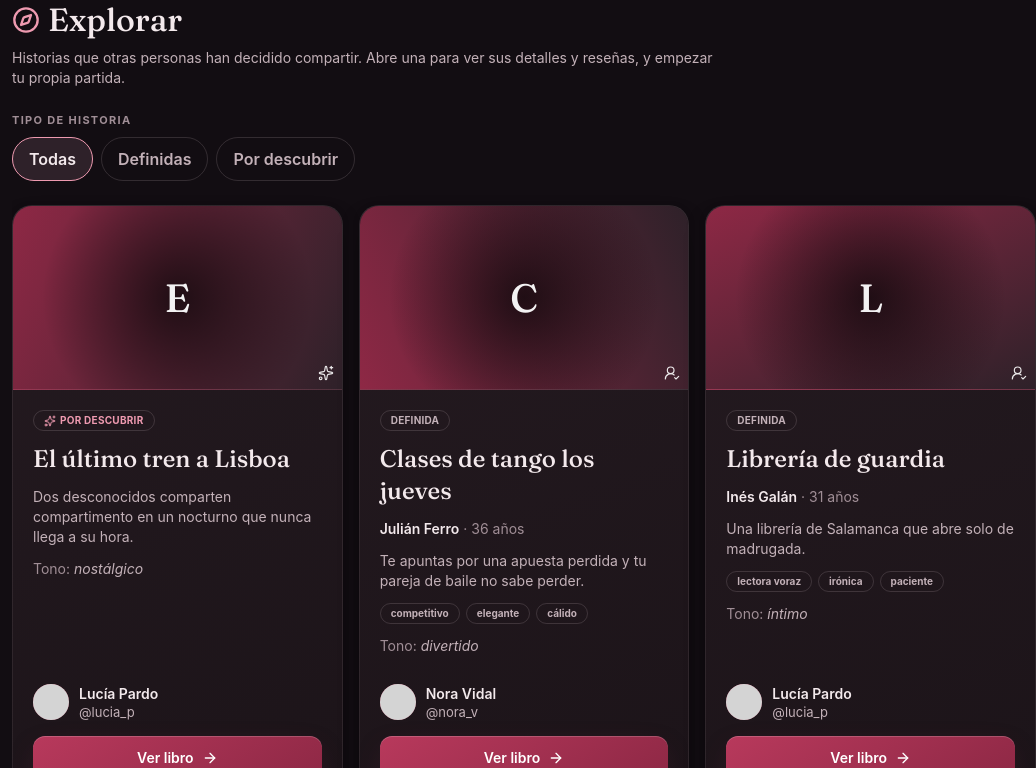
Test: Explorar › filtra por modo con un grupo de radios accesible
Expected: the heading "Librería de guardia" is shown, top-left (726, 444), bottom-right (945, 473)
Click the radio button labelled "Por descubrir": (286, 158) top-left (216, 136), bottom-right (355, 180)
(page scrolled)
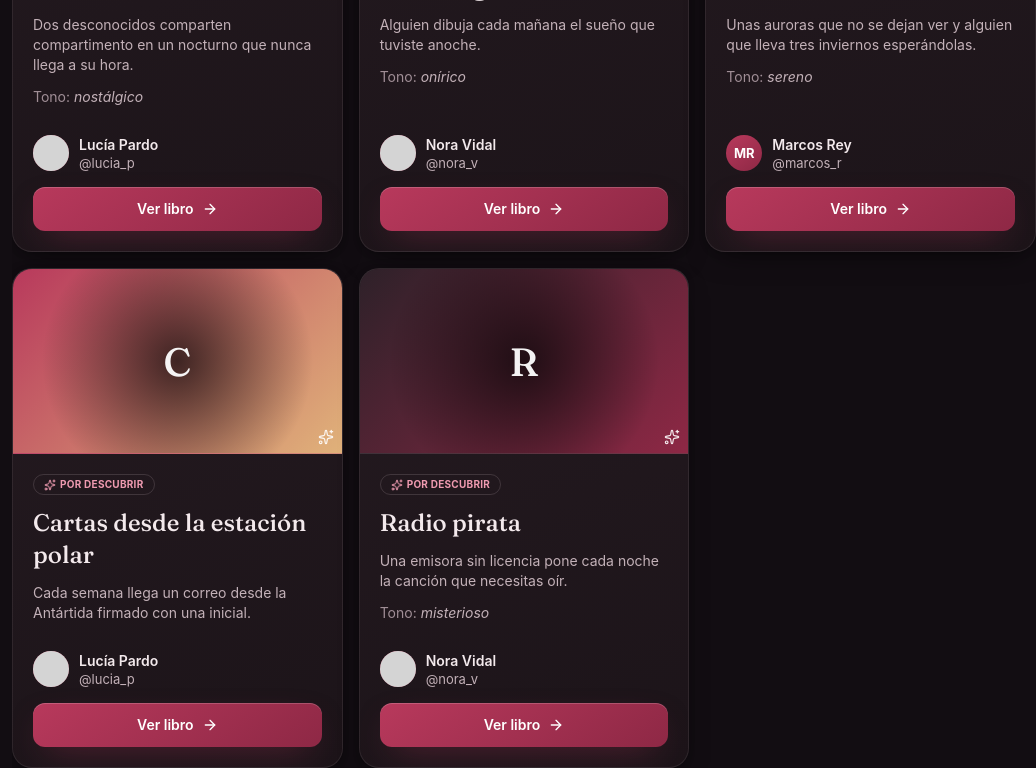
Expected: the heading "Librería de guardia" is gone
